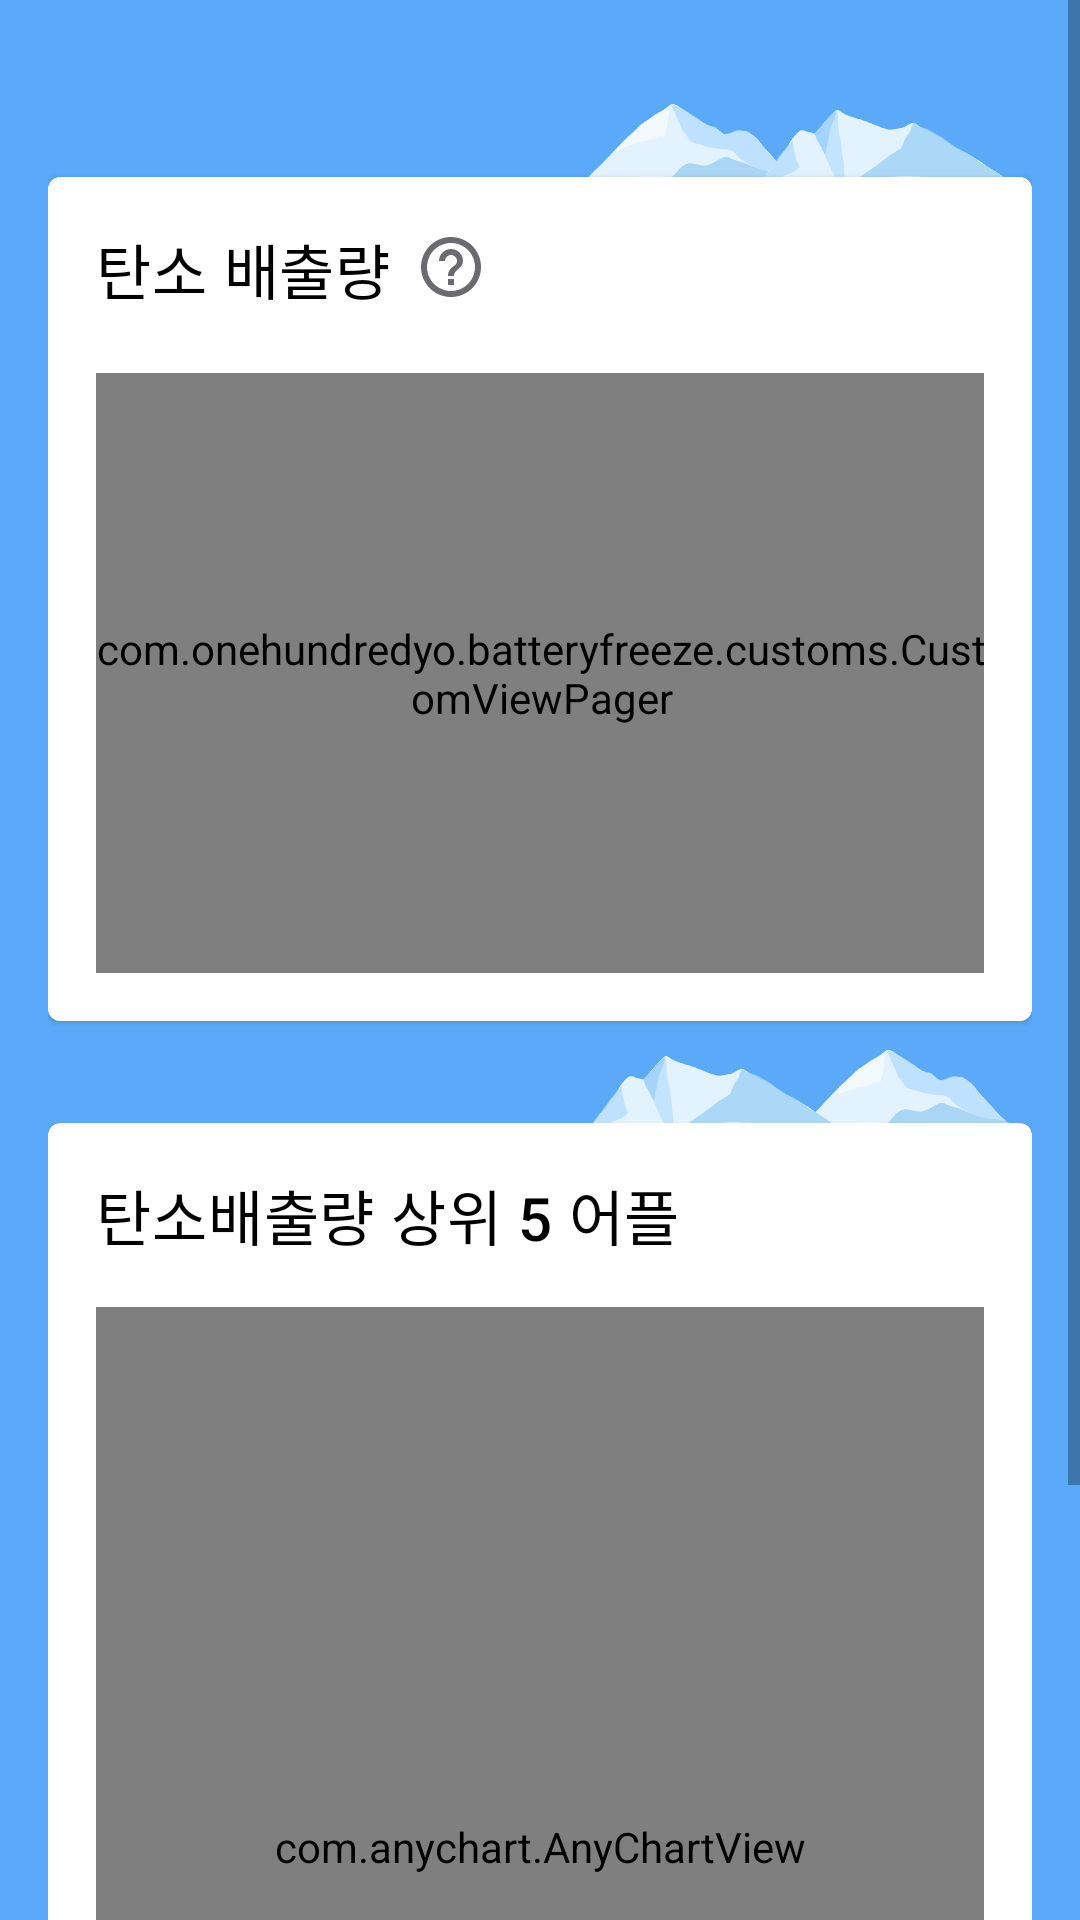

Named icons in this screenshot (1080 × 1920) and their centers, [x,y]:
help mark: [451,267]
